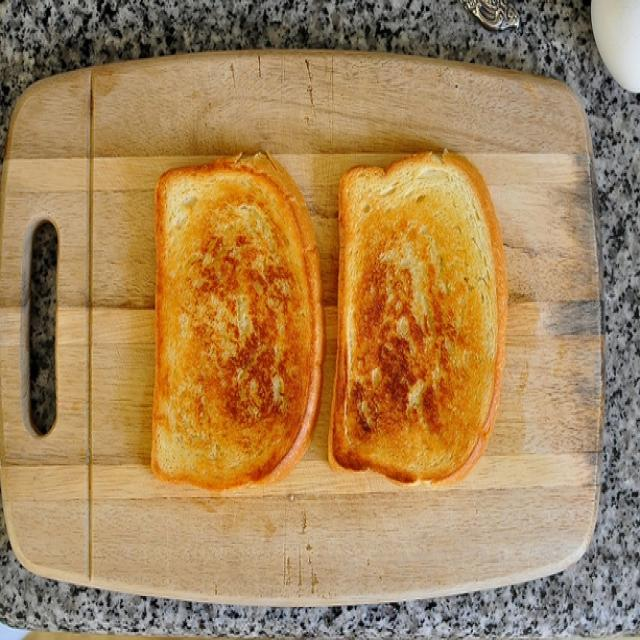面包点心: (53, 55, 608, 599)
